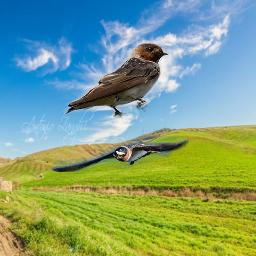Swallow: (62, 41, 169, 119), (51, 136, 189, 172)
